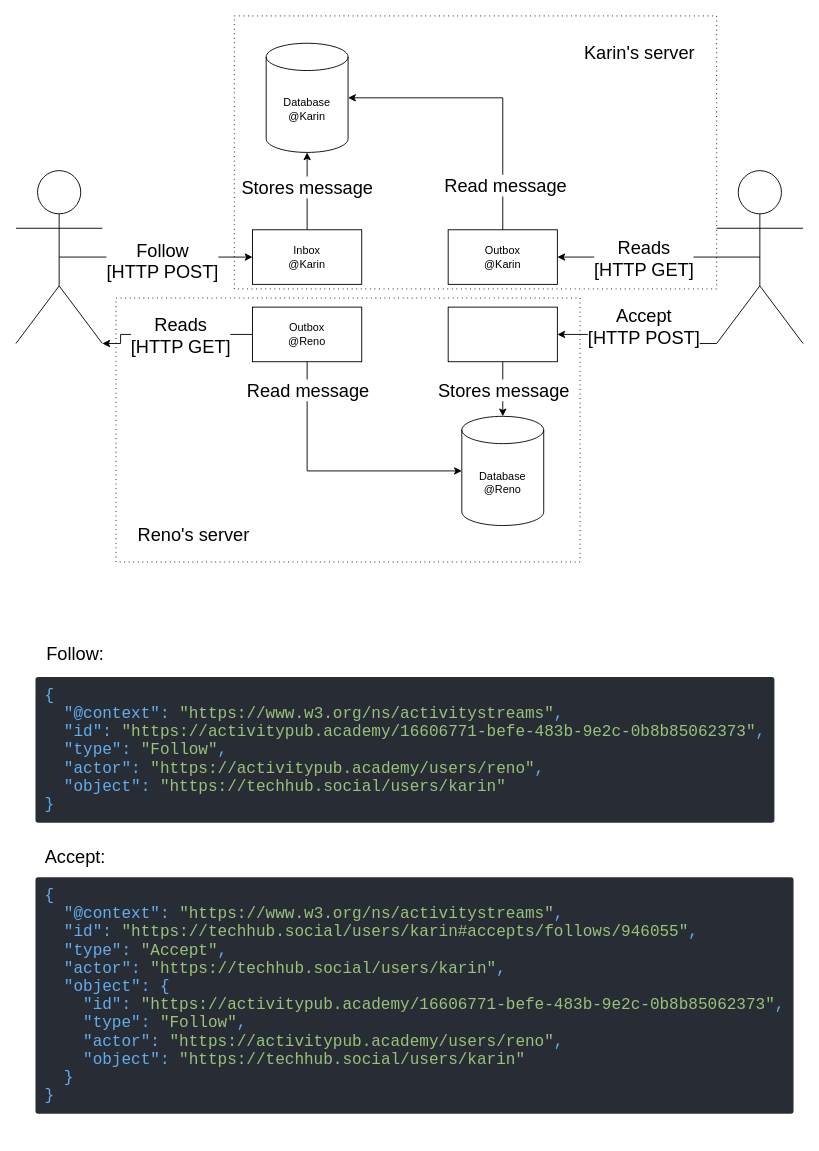
Some shapes in this 819 by 1151 pixel diagram are drawn without their labels. Each missing label, with the centre of its shape:
"@Karin" goes at [759,257].
"@Reno" goes at [58,257].
"Inbox @Reno" goes at [502,334].
